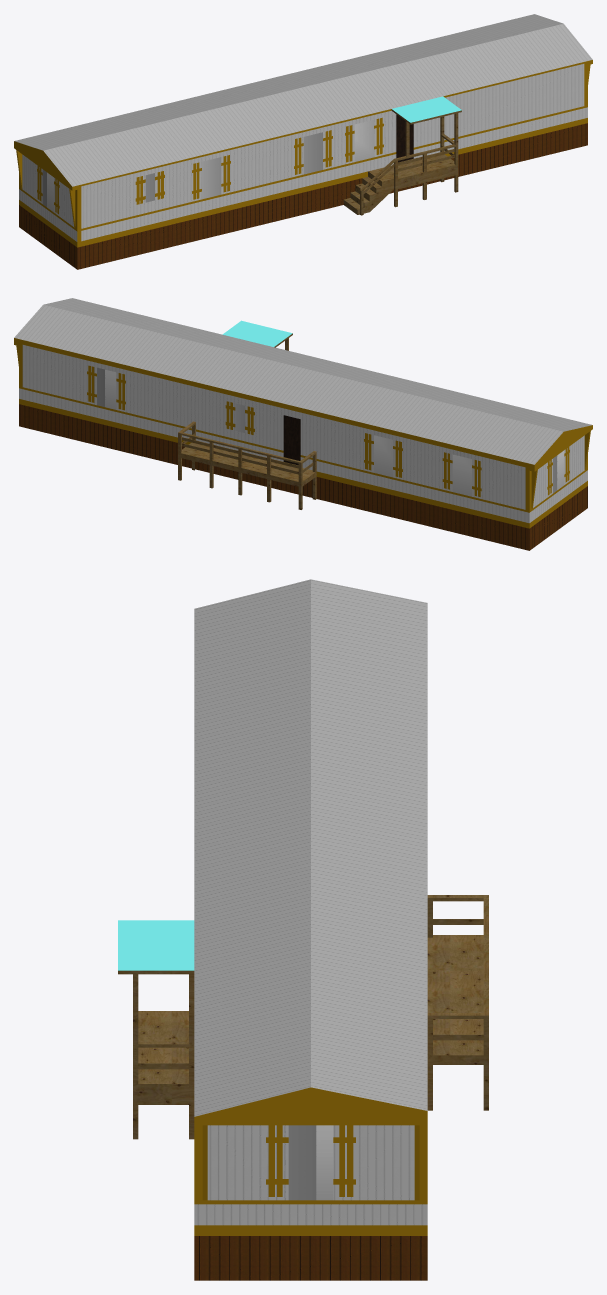
Rendered from hoppers_mobile_home.glb.
The picture shows the model from 3 angles, top to bottom: view 1: azimuth 30°, elevation 25°; view 2: azimuth 150°, elevation 25°; view 3: azimuth 270°, elevation 25°; orthographic projection. The views are drawn at different scales.
Visible parts, largest first — view 1: Material2 (×8); view 2: Material2 (×8); view 3: Material2 (×7).
Part boxes in pixels (x1,y1,x2,y2): Material2 (×8): (14,14,592,269); Material2 (×8): (14,298,592,550); Material2 (×7): (118,579,488,1280).
Size of the model in its own units: 727 by 132 by 224.
9 materials, 6 textured.
